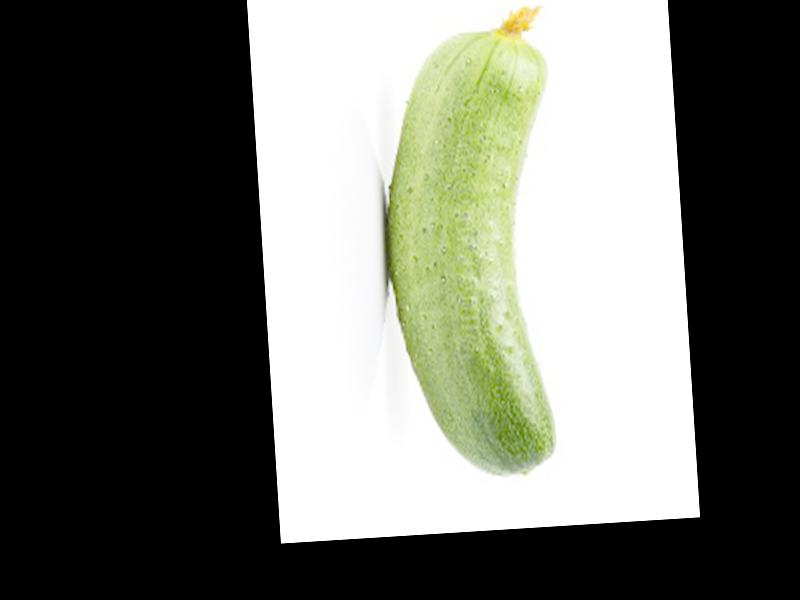Cucumber: (371, 0, 574, 484)
